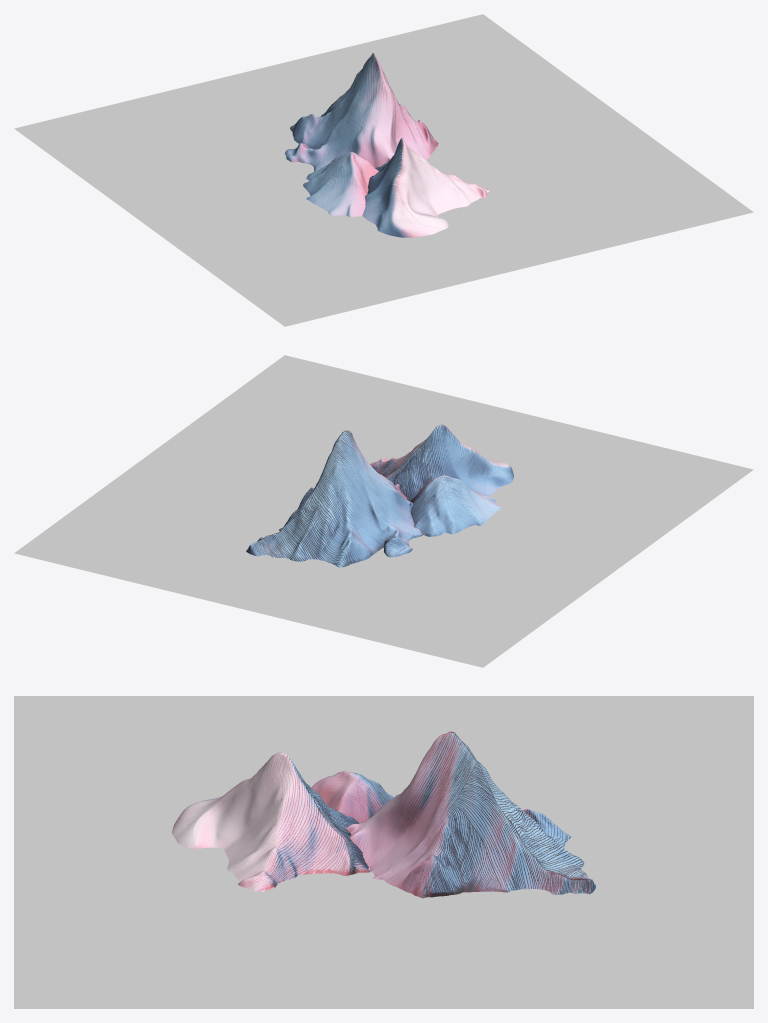
Rendered from kg-mountain.glb.
The picture shows the model from 3 angles, top to bottom: view 1: azimuth 30°, elevation 25°; view 2: azimuth 150°, elevation 25°; view 3: azimuth 270°, elevation 25°; orthographic projection. The views are drawn at different scales.
Visible parts, largest first — view 1: Plane, GEO_Mountain_001.001, GEO_Mountain_002.001, GEO_Mountain_003.001; view 2: Plane, GEO_Mountain_001.001, GEO_Mountain_002.001, GEO_Mountain_003.001; view 3: Plane, GEO_Mountain_001.001, GEO_Mountain_002.001, GEO_Mountain_003.001.
Part boxes in pixels (x1,y1,x2,y2): Plane: [14, 14, 753, 326]; GEO_Mountain_001.001: [285, 53, 438, 171]; GEO_Mountain_002.001: [362, 137, 489, 237]; GEO_Mountain_003.001: [303, 151, 378, 217]; Plane: [14, 355, 753, 667]; GEO_Mountain_001.001: [246, 430, 422, 567]; GEO_Mountain_002.001: [370, 424, 513, 501]; GEO_Mountain_003.001: [410, 475, 502, 536]; Plane: [14, 696, 753, 1008]; GEO_Mountain_001.001: [346, 731, 595, 898]; GEO_Mountain_002.001: [171, 752, 370, 891]; GEO_Mountain_003.001: [311, 770, 393, 822].
Bounding box in the file's own units: 13.27 × 2.58 × 13.27.
Materials: 4 (3 with a texture image).
